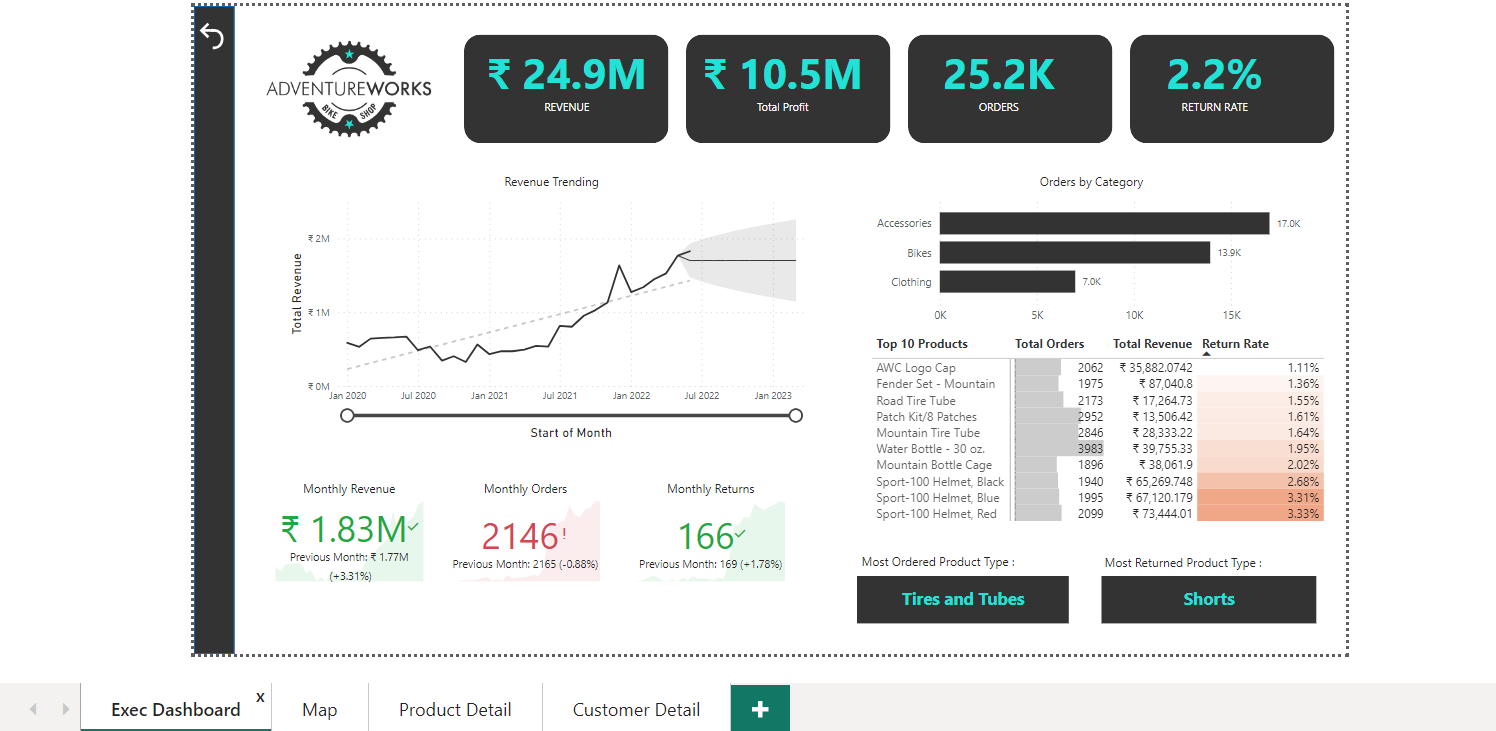

The page's visual inventory and layout, read from the dashboard file:
{"tool":"powerbi","page":{"name":"Exec Dashboard","canvas":[1280,720],"ordinal":0},"visuals":[{"type":"image","title":"AW_Logo","box":[55.6,0,235.2,184.4],"z":0},{"type":"card","fields":{"Values":["Measure Table.Total Revenue"]},"box":[268.6,7.9,290.9,144.6],"z":0,"group":"g2"},{"type":"group","id":"g1","title":"KPI Backgrounds","box":[300.4,31.7,967.9,120.8],"z":0,"group":"g3"},{"type":"shape","box":[300.4,31.7,227.3,120.8],"z":0,"group":"g1"},{"type":"shape","title":"Left Nav Background","box":[0,0,45,720],"z":1000},{"type":"group","id":"g2","title":"KPI Values","box":[268.6,7.9,1010.9,144.6],"z":1000,"group":"g3"},{"type":"card","fields":{"Values":["Measure Table.Total Profit"]},"box":[508.6,7.9,290.9,144.6],"z":1000,"group":"g2"},{"type":"shape","box":[547.3,31.7,227.3,120.8],"z":1000,"group":"g1"},{"type":"group","id":"g3","title":"KPIs","box":[268.6,7.9,1010.9,144.6],"z":2000},{"type":"card","fields":{"Values":["Measure Table.Total Orders"]},"box":[748.6,7.9,290.9,144.6],"z":2000,"group":"g2"},{"type":"shape","box":[794.2,31.7,227.3,120.8],"z":2000,"group":"g1"},{"type":"card","fields":{"Values":["Measure Table.Return Rate"]},"box":[988.6,7.9,290.9,144.6],"z":3000,"group":"g2"},{"type":"shape","box":[1041.1,31.7,227.3,120.8],"z":3000,"group":"g1"},{"type":"lineChart","title":"Revenue Trending","fields":{"Y":["Measure Table.Total Revenue"],"Category":["Calendar Lookup.Year","Calendar Lookup.Start of Quarter","Calendar Lookup.Start of Month"]},"box":[100.1,184.4,594.4,302],"z":3000},{"type":"kpi","title":"Monthly Revenue","fields":{"Indicator":["Measure Table.Total Revenue"],"TrendLine":["Calendar Lookup.Start of Month"],"Goal":["Measure Table.Previous month revenue"]},"box":[85.8,526.1,174.8,117.6],"z":4000},{"type":"kpi","title":"Monthly Orders","fields":{"TrendLine":["Calendar Lookup.Start of Month"],"Indicator":["Measure Table.Total Orders"],"Goal":["Measure Table.Previous month Orders"]},"box":[279.7,526.1,176.4,117.6],"z":5000},{"type":"kpi","title":"Monthly Returns","fields":{"TrendLine":["Calendar Lookup.Start of Month"],"Indicator":["Measure Table.Total Returns"],"Goal":["Measure Table.Previous month returns"]},"box":[486.4,526.1,174.8,117.6],"z":6000},{"type":"clusteredBarChart","title":"Orders by Category","fields":{"Category":["Product Categories Lookup.CategoryName"],"Y":["Measure Table.Total Orders"]},"box":[748.6,184.4,497.5,176.4],"z":7000},{"type":"pivotTable","fields":{"Rows":["Product Lookup.ProductName"],"Values":["Measure Table.Total Orders","Measure Table.Total Revenue","Measure Table.Return Rate"]},"box":[748.6,360.8,519.7,224.1],"z":8000},{"type":"card","fields":{"Values":["Min(Product Subcategories Lookup.SubcategoryName)"]},"box":[737.5,632.6,235.2,52.5],"z":9000},{"type":"textbox","box":[737.5,602.4,213,30.2],"z":10000},{"type":"card","fields":{"Values":["Min(Product Subcategories Lookup.SubcategoryName)"]},"box":[1007.7,632.6,238.4,52.5],"z":11000},{"type":"textbox","box":[1007.1,602.8,213,30.2],"z":12000},{"type":"actionButton","box":[0,12.7,44.5,39.7],"z":13000}]}

Visuals, with their boxes on the page's 1280x720 design canvas (x1, y1, x2, y2). These are canvas units, not pixel positions in the 1496x731 screenshot, which may show the page scaled, cropped or inside an application window:
"AW_Logo" image: [56, 0, 291, 184]
card - Measure Table.Total Revenue: [269, 8, 560, 152]
"KPI Backgrounds" group: [300, 32, 1268, 152]
shape: [300, 32, 528, 152]
"Left Nav Background" shape: [0, 0, 45, 720]
"KPI Values" group: [269, 8, 1280, 152]
card - Measure Table.Total Profit: [509, 8, 800, 152]
shape: [547, 32, 775, 152]
"KPIs" group: [269, 8, 1280, 152]
card - Measure Table.Total Orders: [749, 8, 1040, 152]
shape: [794, 32, 1022, 152]
card - Measure Table.Return Rate: [989, 8, 1280, 152]
shape: [1041, 32, 1268, 152]
"Revenue Trending" lineChart: [100, 184, 694, 486]
"Monthly Revenue" kpi: [86, 526, 261, 644]
"Monthly Orders" kpi: [280, 526, 456, 644]
"Monthly Returns" kpi: [486, 526, 661, 644]
"Orders by Category" clusteredBarChart: [749, 184, 1246, 361]
pivotTable - Product Lookup.ProductName x Measure Table.Total Orders: [749, 361, 1268, 585]
card - Min(Product Subcategories Lookup.SubcategoryName): [738, 633, 973, 685]
textbox: [738, 602, 950, 633]
card - Min(Product Subcategories Lookup.SubcategoryName): [1008, 633, 1246, 685]
textbox: [1007, 603, 1220, 633]
actionButton: [0, 13, 44, 52]
